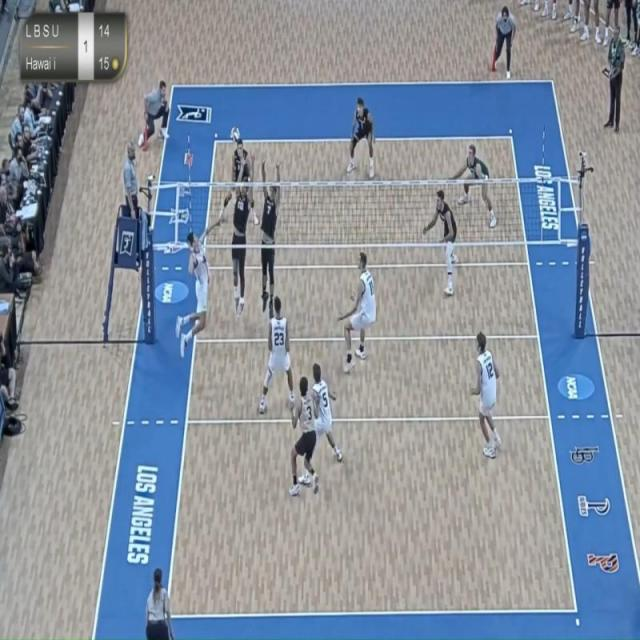volleyball: (228, 122, 243, 146)
